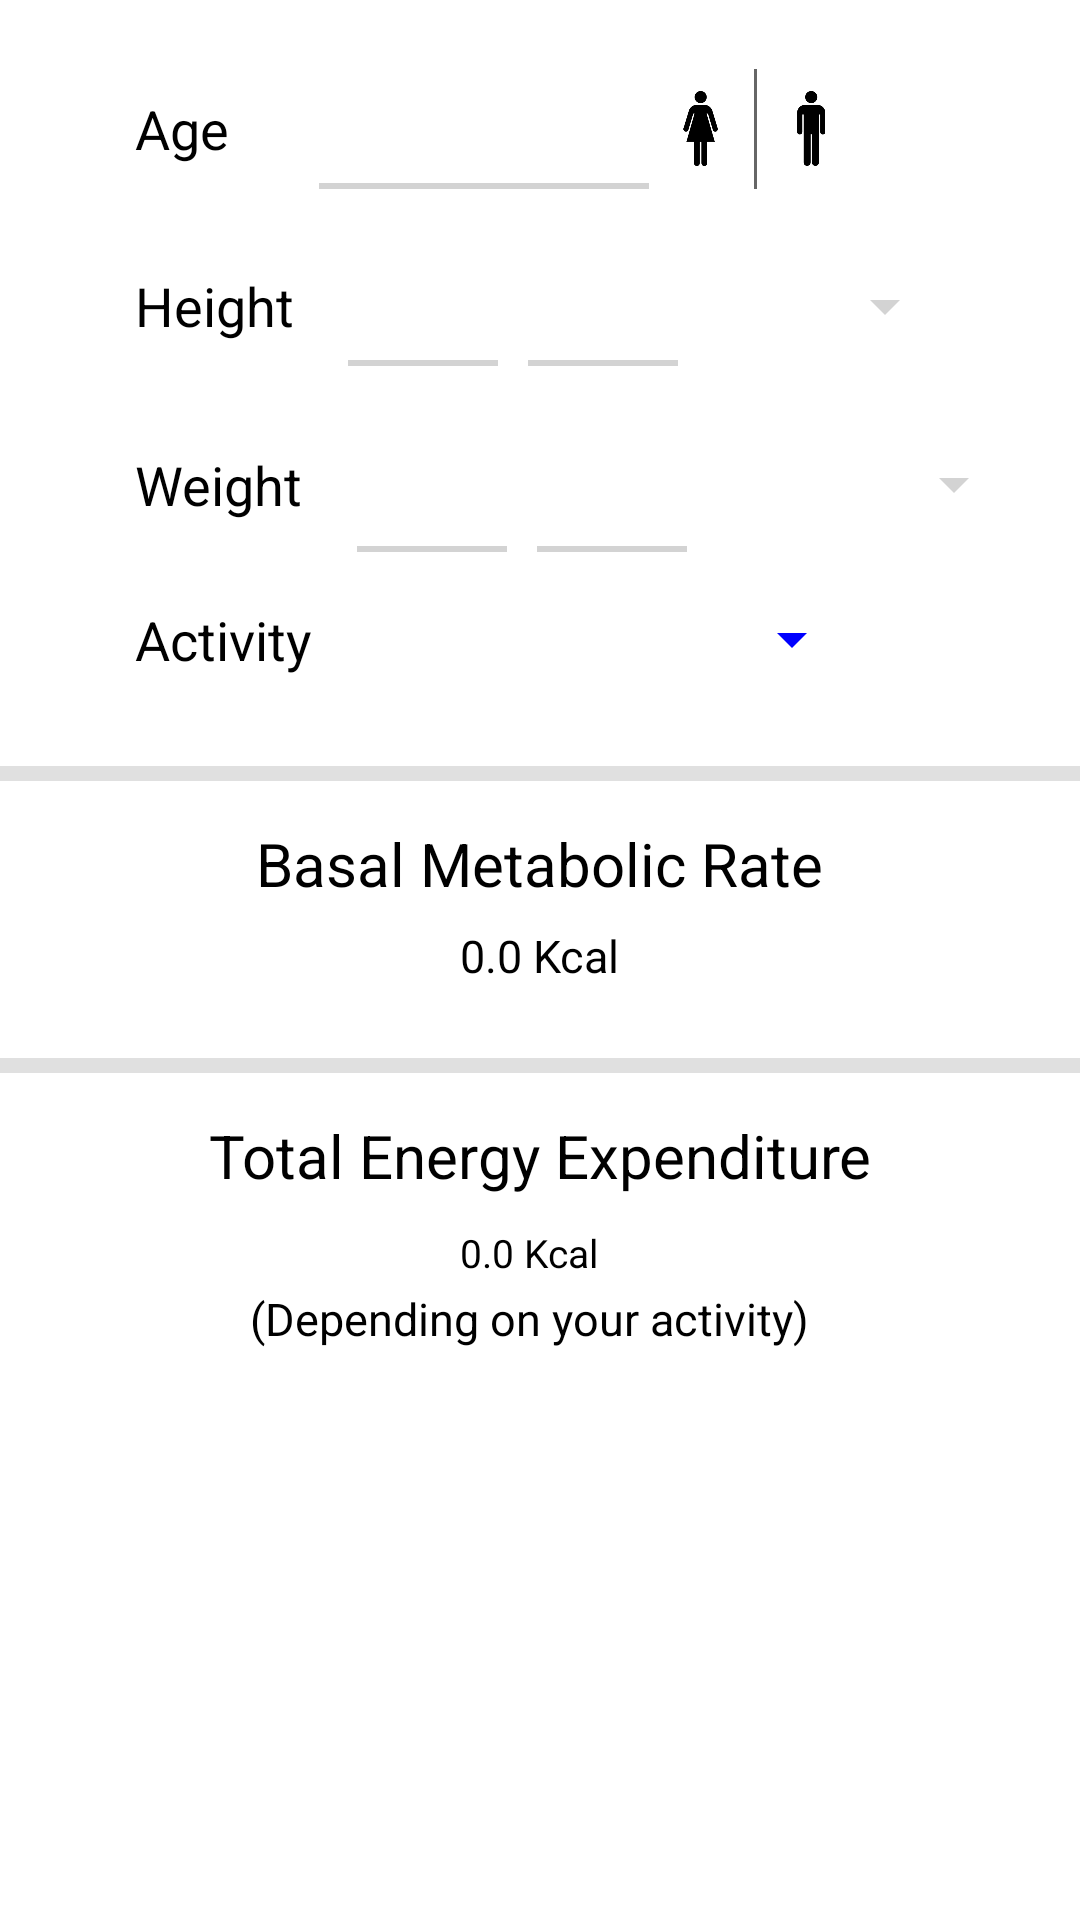

Point at icon controls on the screen. Image size 1080px x 1920px, points as point (x, y).
female: point (700, 128)
male: point (811, 128)
